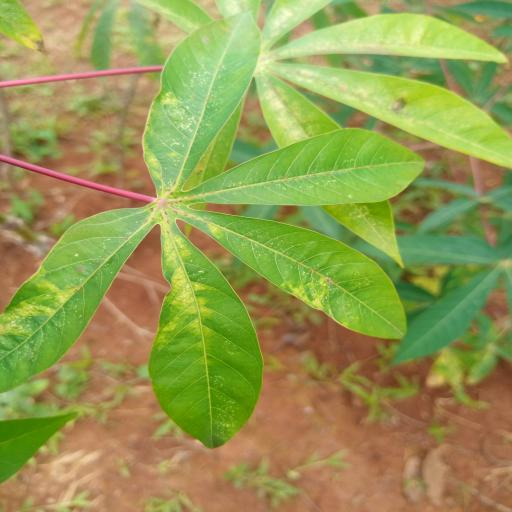Cassava_Mosaic: (4, 0, 417, 454)
